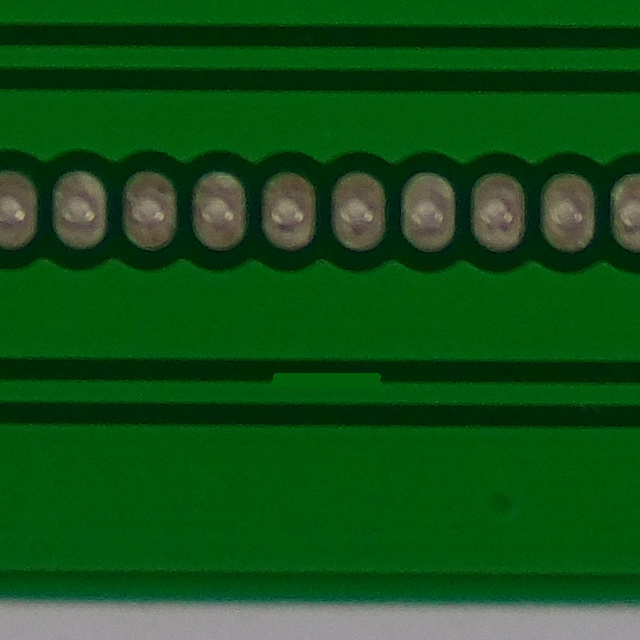spur: (251, 360, 389, 415)
